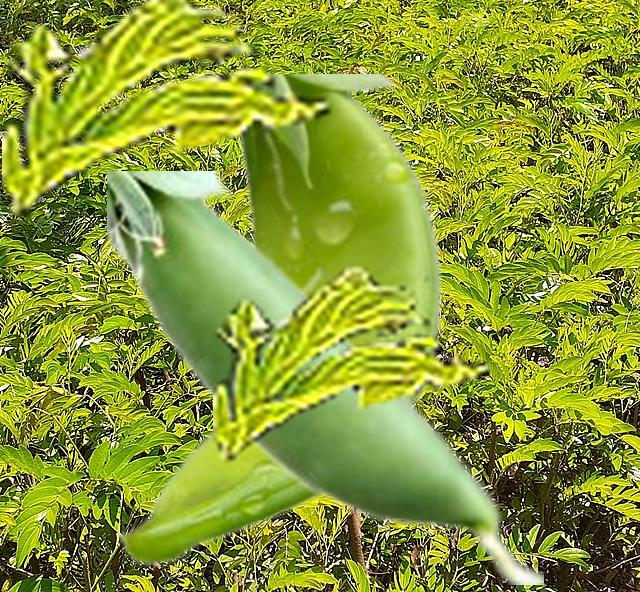pea: (107, 171, 542, 583), (115, 74, 440, 563)
